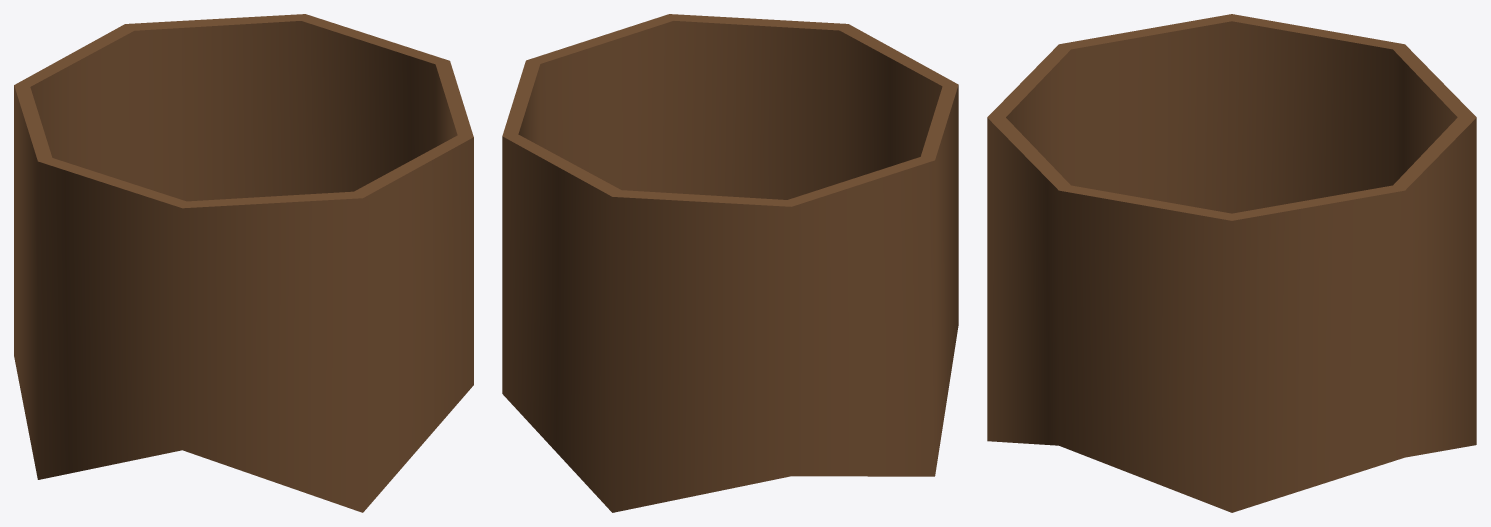
File: GoblinLoinCloth.fbx
The picture shows the model from 3 angles, left to right: view 1: azimuth 30°, elevation 25°; view 2: azimuth 150°, elevation 25°; view 3: azimuth 270°, elevation 25°; orthographic projection. The views are drawn at different scales.
Parts seen in each view (by area): view 1: Goblin_Loincloth; view 2: Goblin_Loincloth; view 3: Goblin_Loincloth.
Part boxes in pixels (x1,y1,x2,y2): Goblin_Loincloth: (14, 14, 473, 512); Goblin_Loincloth: (502, 14, 958, 512); Goblin_Loincloth: (987, 14, 1476, 512).
Size of the model in its own units: 1.12 by 0.8264 by 1.12.
